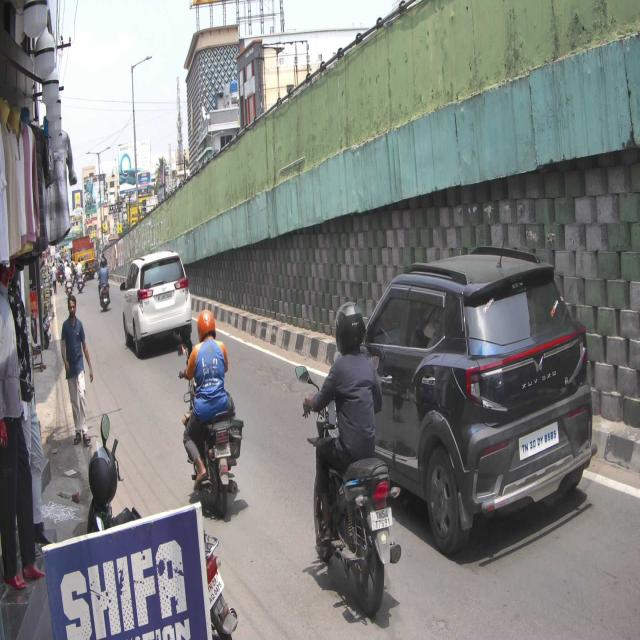single_rider: (298, 296, 404, 619), (177, 305, 246, 518)
